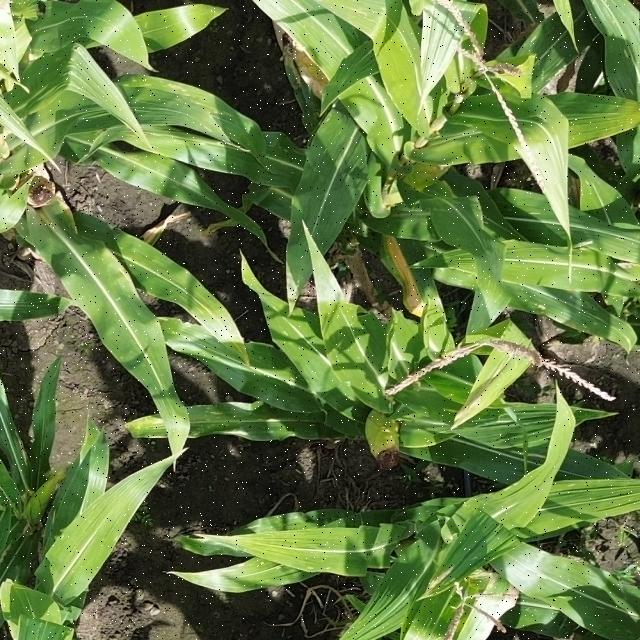gray-leaf-spot: (121, 77, 310, 193), (15, 47, 103, 133)
northern-leaf-blight: (371, 238, 440, 339)
southern-leaf-blight: (132, 363, 327, 452), (484, 237, 628, 349), (99, 259, 205, 397), (503, 538, 640, 640)
